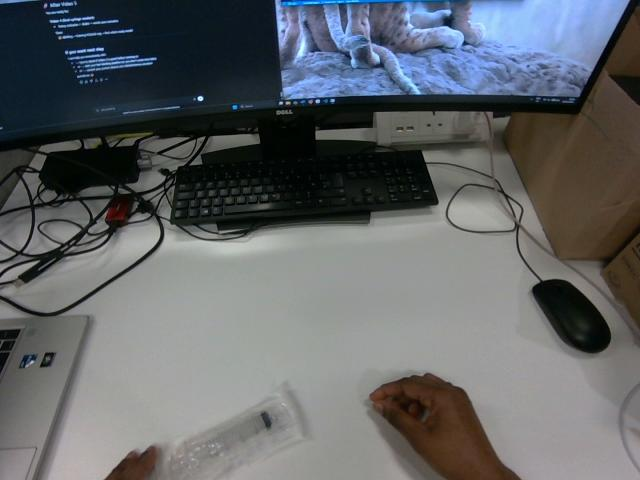syringe: (159, 386, 303, 479)
